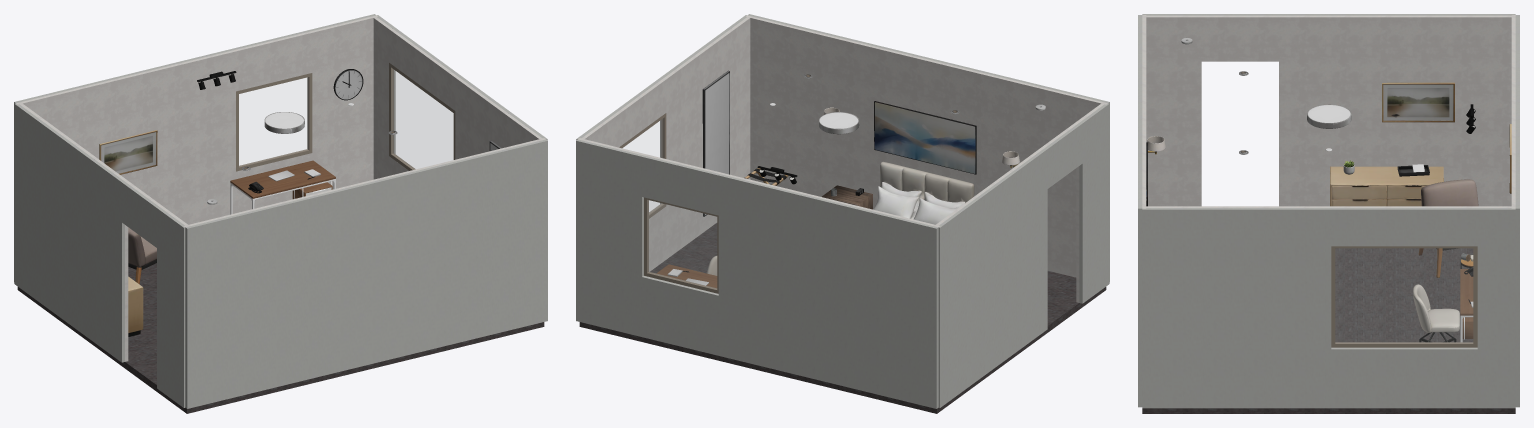
Rendered from scene_web.glb.
The picture shows the model from 3 angles, left to right: view 1: azimuth 30°, elevation 25°; view 2: azimuth 150°, elevation 25°; view 3: azimuth 270°, elevation 25°; orthographic projection. The views are drawn at different scales.
Visible parts, largest first — view 1: geometry_0.003, geometry_0, geometry_0.007, geometry_0.004, Mesh_0, glass.001, glass, geometry_0.017, P_643f8d87c8bfe86e.001, frame, geometry_0.006, geometry_0.001 (+7 smaller); view 2: geometry_0.001, geometry_0.002, geometry_0.007, geometry_0.004, Mesh_0, geometry_0.014, glass, geometry_0.008, geometry_0.019, geometry_0.006, frame, geometry_0.003 (+7 smaller); view 3: geometry_0.005, geometry_0.006, glass.001, Mesh_0, geometry_0.013, geometry_0.020, frame.001, geometry_0.001, geometry_0.003, geometry_0.011, geometry_0.009, geometry_0 (+5 smaller).
Boxes of the visible parts, left/top/right/bottom form: geometry_0.003: left=185, top=139, right=547, bottom=408; geometry_0: left=16, top=15, right=377, bottom=224; geometry_0.007: left=14, top=103, right=185, bottom=407; geometry_0.004: left=373, top=17, right=542, bottom=179; Mesh_0: left=17, top=263, right=544, bottom=413; glass.001: left=392, top=69, right=453, bottom=169; glass: left=239, top=77, right=307, bottom=165; geometry_0.017: left=99, top=130, right=157, bottom=174; P_643f8d87c8bfe86e.001: left=230, top=160, right=335, bottom=198; frame: left=236, top=73, right=312, bottom=171; geometry_0.006: left=20, top=103, right=187, bottom=361; geometry_0.001: left=14, top=14, right=375, bottom=281; geometry_0.001: left=576, top=139, right=938, bottom=408; geometry_0.002: left=746, top=15, right=1107, bottom=277; geometry_0.007: left=938, top=103, right=1109, bottom=407; geometry_0.004: left=581, top=17, right=750, bottom=271; Mesh_0: left=579, top=223, right=1106, bottom=413; geometry_0.014: left=874, top=101, right=976, bottom=174; glass: left=648, top=200, right=716, bottom=288; geometry_0.008: left=873, top=161, right=974, bottom=224; geometry_0.019: left=702, top=70, right=729, bottom=216; geometry_0.006: left=936, top=103, right=1103, bottom=302; frame: left=644, top=197, right=718, bottom=293; geometry_0.003: left=748, top=14, right=1109, bottom=281; geometry_0.005: left=1142, top=208, right=1515, bottom=408; geometry_0.006: left=1146, top=15, right=1511, bottom=206; glass.001: left=1335, top=248, right=1472, bottom=342; Mesh_0: left=1142, top=248, right=1515, bottom=413; geometry_0.013: left=1330, top=166, right=1443, bottom=206; geometry_0.020: left=1382, top=82, right=1454, bottom=122; frame.001: left=1331, top=246, right=1477, bottom=347; geometry_0.001: left=1515, top=15, right=1519, bottom=407; geometry_0.003: left=1138, top=15, right=1142, bottom=407; geometry_0.011: left=1418, top=179, right=1478, bottom=277; geometry_0.009: left=1413, top=284, right=1459, bottom=342; geometry_0: left=1511, top=15, right=1515, bottom=208.
Size of the model in its own units: 5.7 by 2.8 by 4.7.
Materials: 39 (32 with a texture image).
